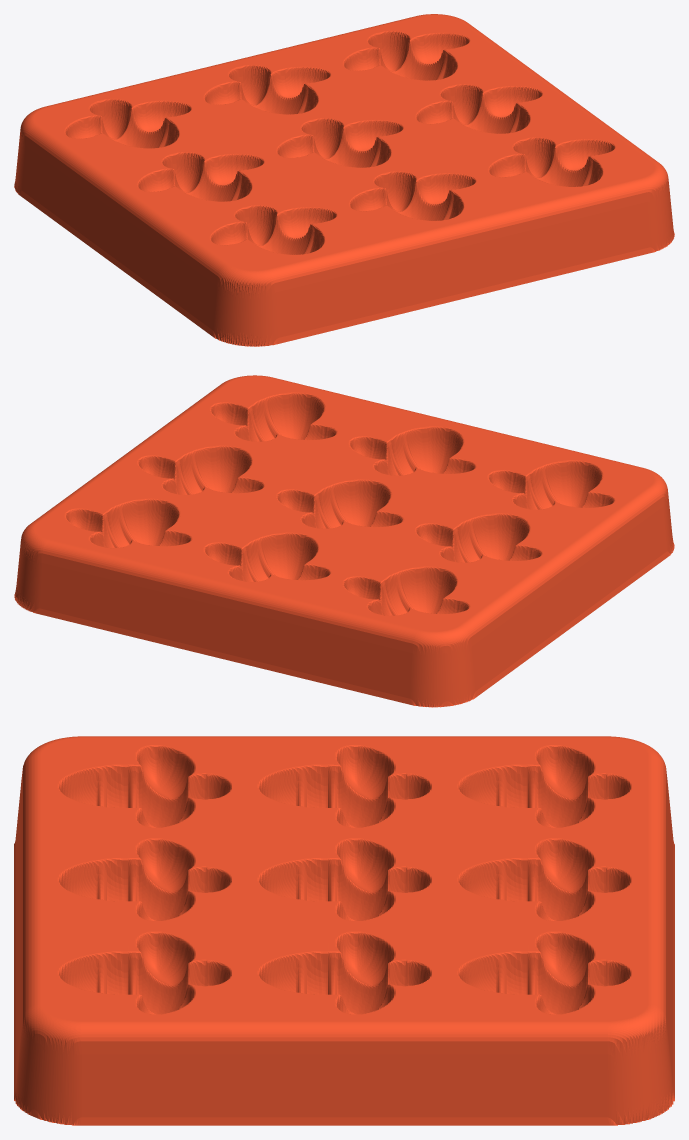
File: mold.glb
3 renders of one model, top to bottom at view 1: azimuth 30°, elevation 25°; view 2: azimuth 150°, elevation 25°; view 3: azimuth 270°, elevation 25°, orthographic. The views are drawn at different scales.
Visible parts, largest first — view 1: geometry_0; view 2: geometry_0; view 3: geometry_0.
Part boxes in pixels (x1=…): geometry_0: x1=14, y1=14, x2=674, y2=346; geometry_0: x1=14, y1=375, x2=674, y2=707; geometry_0: x1=14, y1=736, x2=674, y2=1125.
Size of the model in its own units: 0.0964 by 0.0136 by 0.088.
